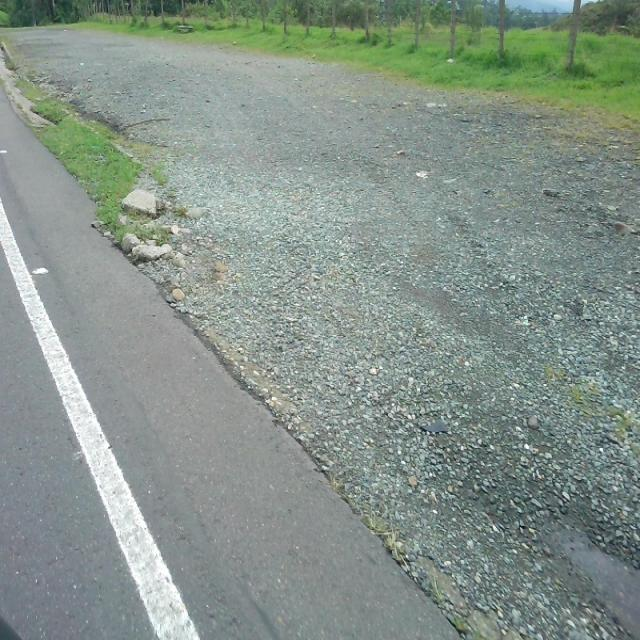DITCH: (2, 27, 638, 638), (1, 107, 639, 636)
